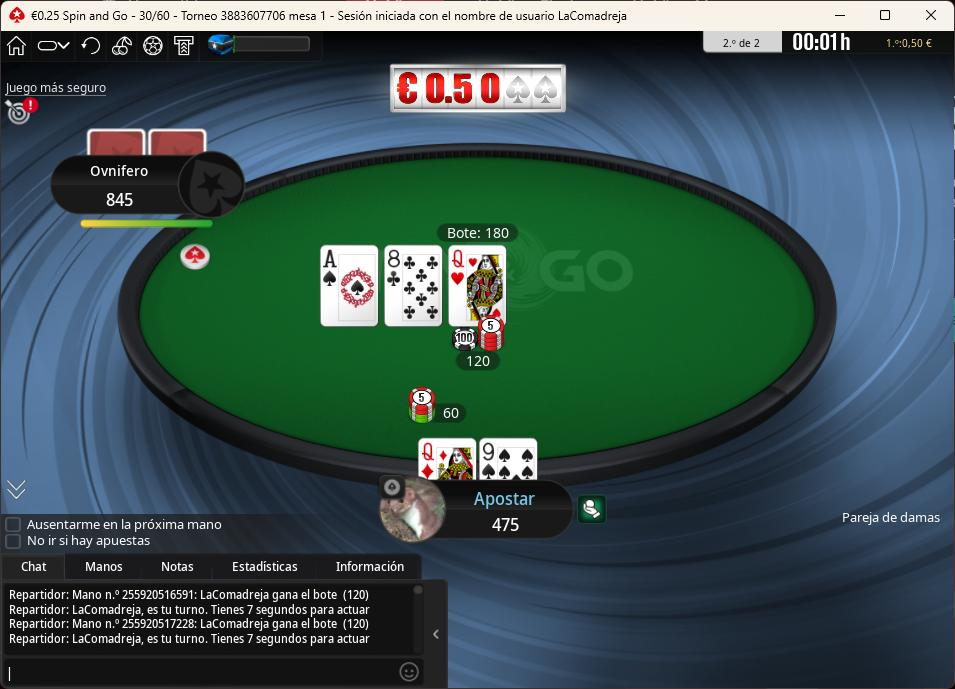Dealer: (176, 240, 217, 276)
HiddenCards: (83, 129, 213, 159)
Player: (49, 152, 245, 216)
PlayerChips: (483, 513, 527, 536), (96, 192, 144, 210)
Pot: (435, 222, 518, 241)
PrincipalBet: (404, 382, 466, 429)
PrincipalCards: (417, 435, 544, 490)
PrincipalCards1: (414, 436, 480, 483)
PrincipalCards2: (480, 436, 542, 482)
PrincipalPlayer: (373, 471, 570, 542)
ShowedCards: (321, 248, 514, 332)
ShowedCards1: (319, 246, 384, 332)
ShowedCards2: (384, 246, 446, 330)
ShowedCards3: (445, 245, 511, 331)
SmallBigBlind: (130, 2, 180, 25)
TablePot: (441, 315, 525, 375)
